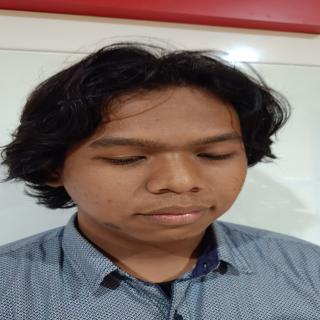Sedih: (68, 83, 257, 246)
